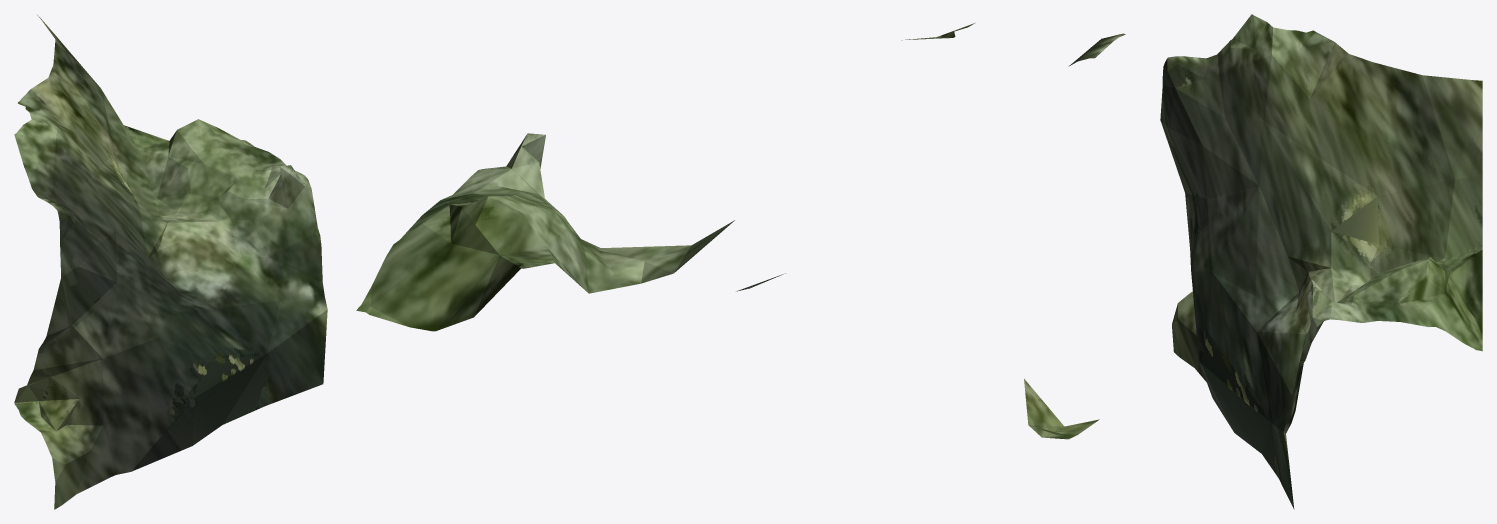
3 views of the same model, side by side, from view 1: azimuth 30°, elevation 25°; view 2: azimuth 150°, elevation 25°; view 3: azimuth 270°, elevation 25° (orthographic). The views are drawn at different scales.
Size of the model in its own units: 2.95 by 2.95 by 2.55.
3 materials, 3 textured.
